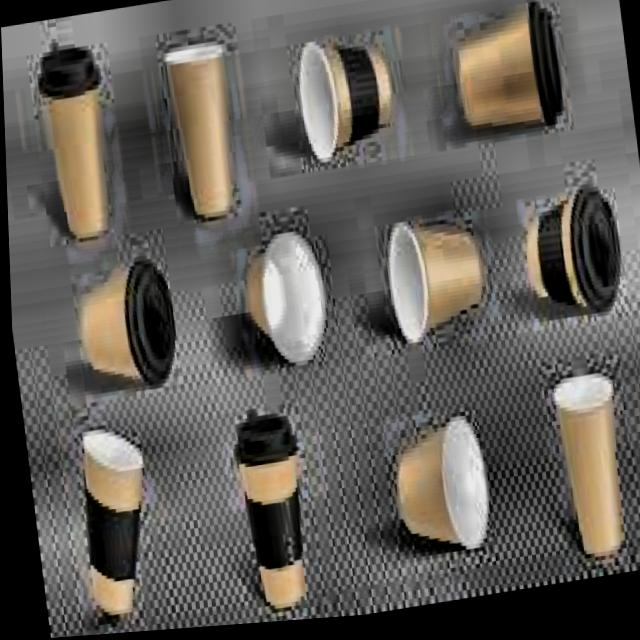Cup: (440, 11, 557, 171), (368, 205, 492, 353), (289, 24, 404, 181), (63, 420, 150, 627), (23, 63, 119, 249), (544, 370, 630, 575), (229, 224, 335, 390), (384, 424, 495, 580), (224, 428, 314, 620), (155, 37, 241, 231), (67, 265, 179, 411), (513, 198, 620, 342)
